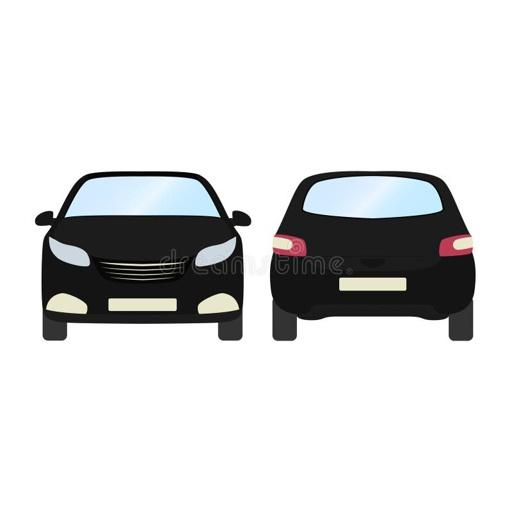hatchback: (35, 172, 249, 338), (272, 172, 472, 339)
